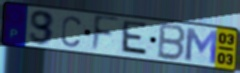9: (28, 10, 57, 47)
B: (155, 22, 188, 62)
C: (60, 14, 83, 49)
E: (119, 19, 149, 58)
F: (89, 14, 120, 54)
M: (184, 26, 220, 66)
